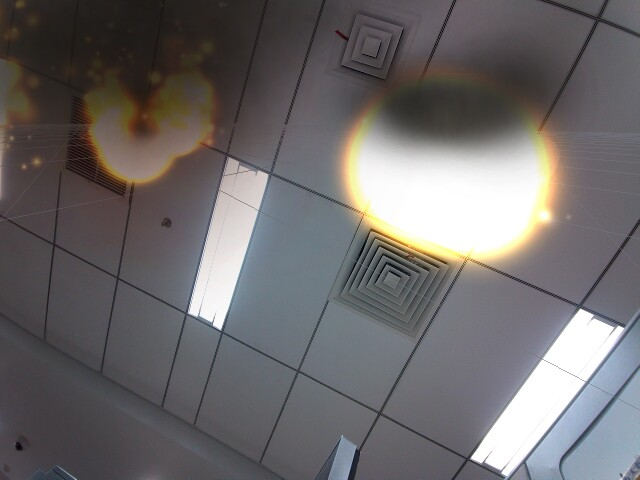fire: (97, 115, 144, 166), (152, 117, 176, 144), (84, 117, 105, 142)
firebig: (355, 111, 468, 214)
